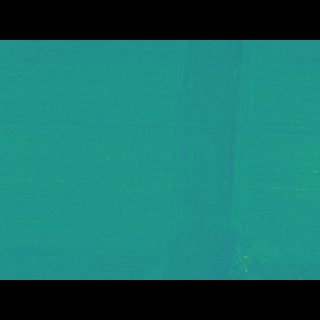Loch: (153, 68, 264, 250)
